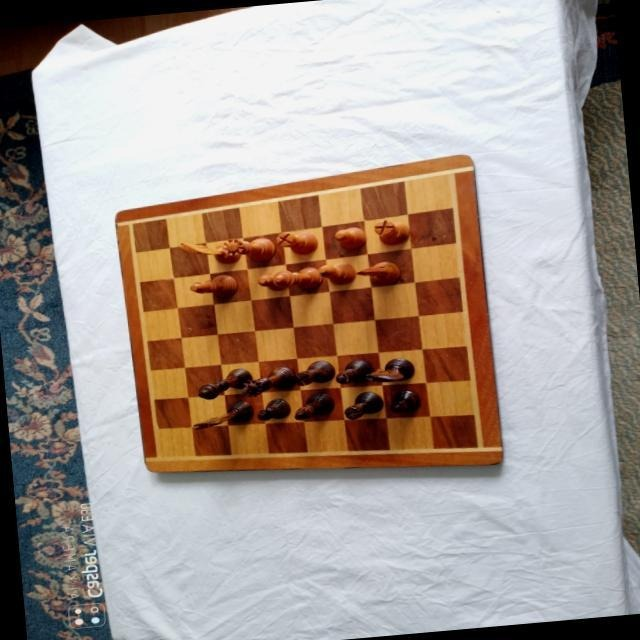black-bishop: (291, 390, 337, 422), (332, 356, 373, 384)
black-king: (194, 364, 253, 399)
black-knight: (191, 398, 253, 429), (362, 355, 414, 383)
black-pawn: (387, 386, 421, 414), (254, 395, 290, 420)
black-queen: (238, 364, 296, 397)
black-rook: (340, 388, 384, 420), (291, 358, 335, 386)
white-bishop: (187, 272, 237, 300), (316, 260, 357, 287)
white-king: (270, 265, 322, 291)
white-knight: (177, 236, 241, 268), (355, 258, 401, 286)
white-pawn: (333, 223, 367, 250), (255, 270, 289, 293)
white-queen: (219, 231, 276, 264)
white-rook: (274, 227, 318, 257), (371, 216, 410, 246)
